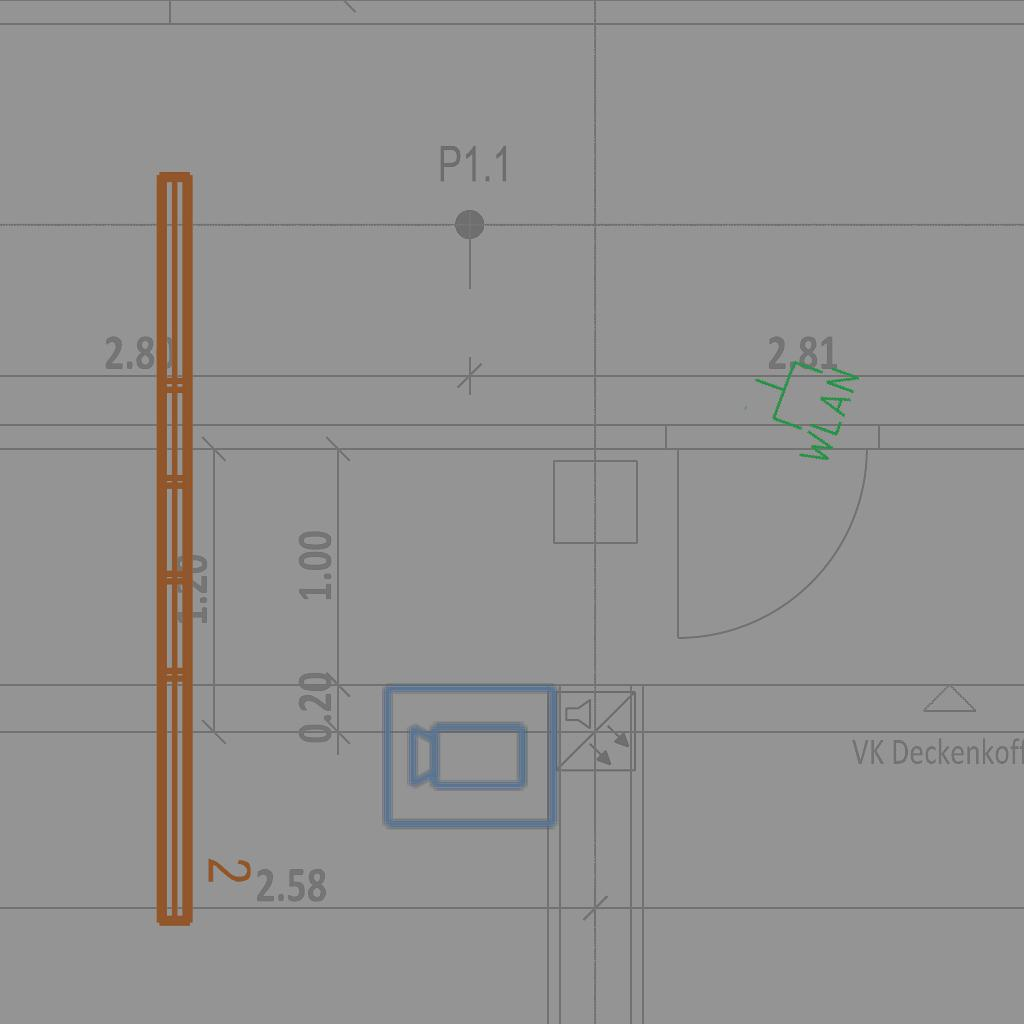Ambulanz_Pendelleuchte_LED: (144, 161, 256, 935)
KFO_Kamera_mit_Festobjektiv: (380, 678, 562, 832)
WLAN: (731, 338, 865, 473)
